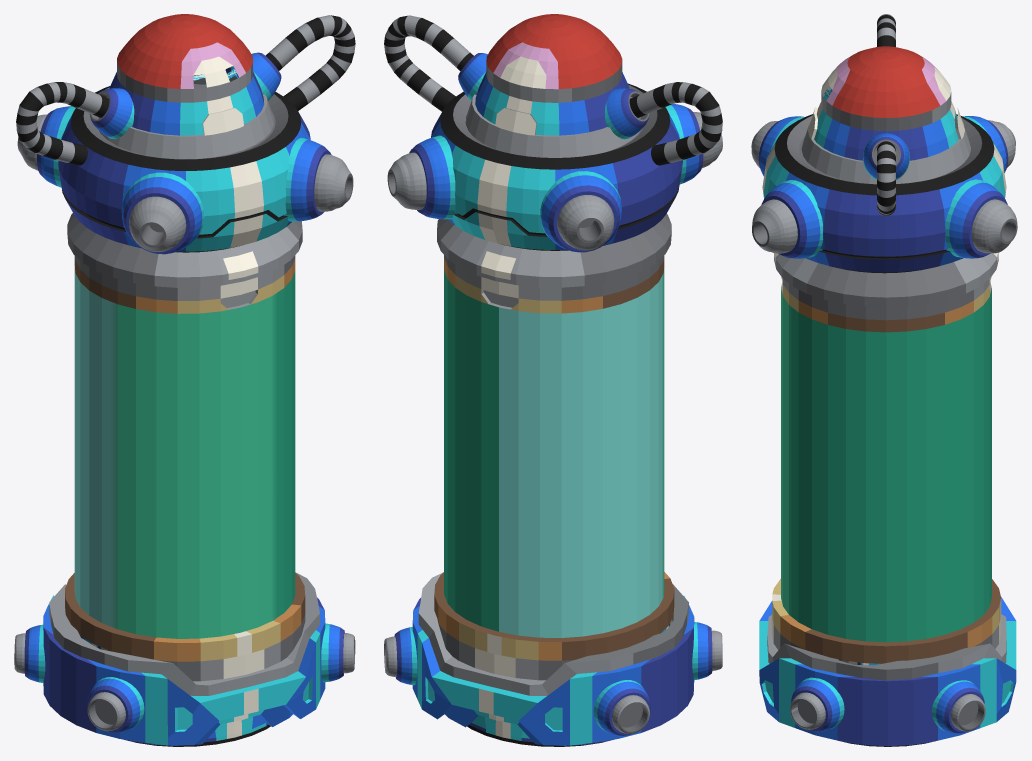
File: LightCapsuleColorSmooth.fbx
The picture shows the model from 3 angles, left to right: view 1: azimuth 30°, elevation 25°; view 2: azimuth 150°, elevation 25°; view 3: azimuth 270°, elevation 25°; orthographic projection. The views are drawn at different scales.
Parts seen in each view (by area): view 1: Torus; view 2: Torus; view 3: Torus.
Part boxes in pixels (x1,y1,x2,y2): Torus: (14, 14, 355, 746); Torus: (384, 14, 722, 746); Torus: (751, 14, 1017, 746).
Bounding box in the file's own units: 456 × 884 × 327.
Materials: 13 (1 with a texture image).
